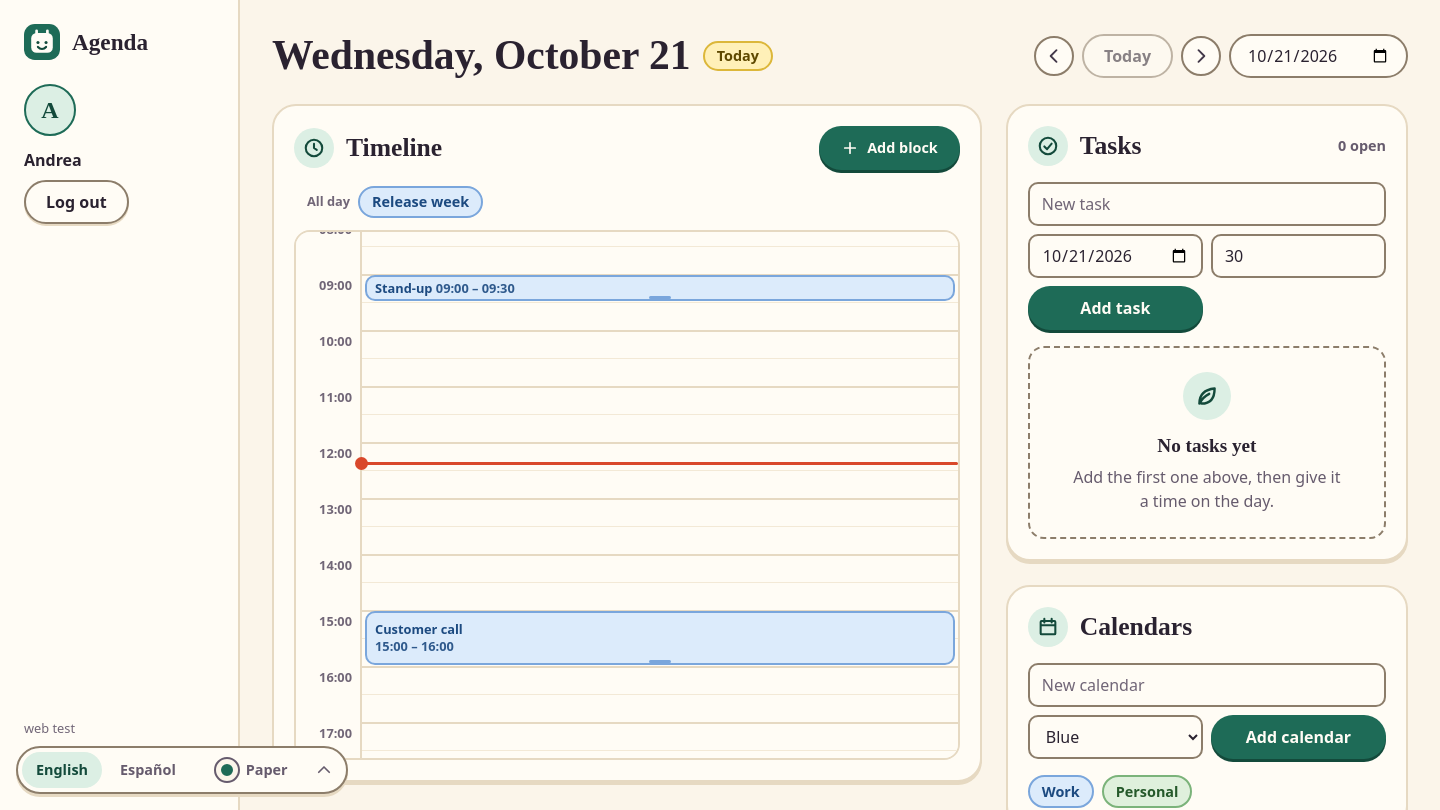
Test: planning a day › adds a block and lets its title be typed straight away
The width and height of the screenshot is (1440, 810).
(page scrolled)
Click the button "Add block".
click(890, 148)  # box x1=819 y1=126 x2=960 y2=170
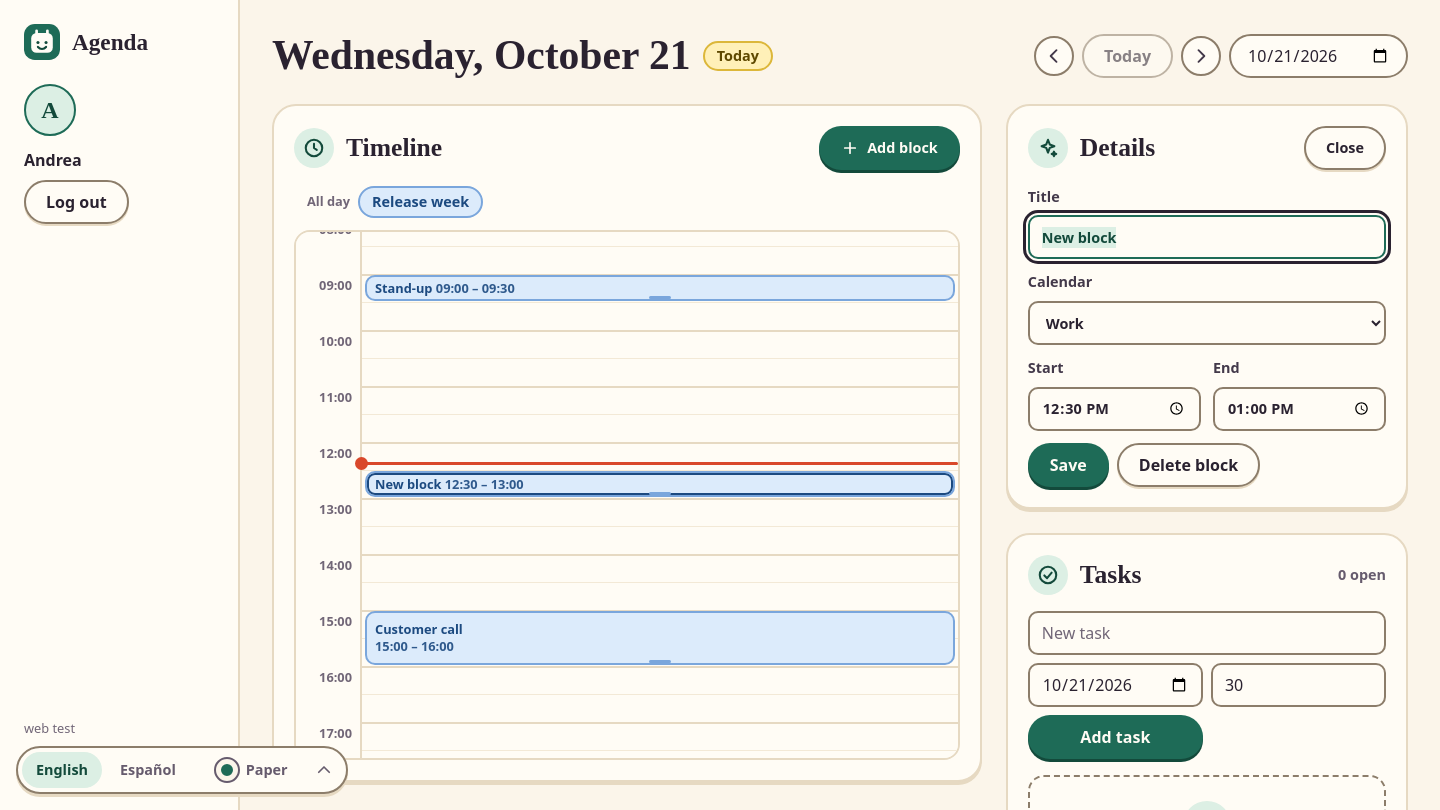
Type keys "Write release notes"
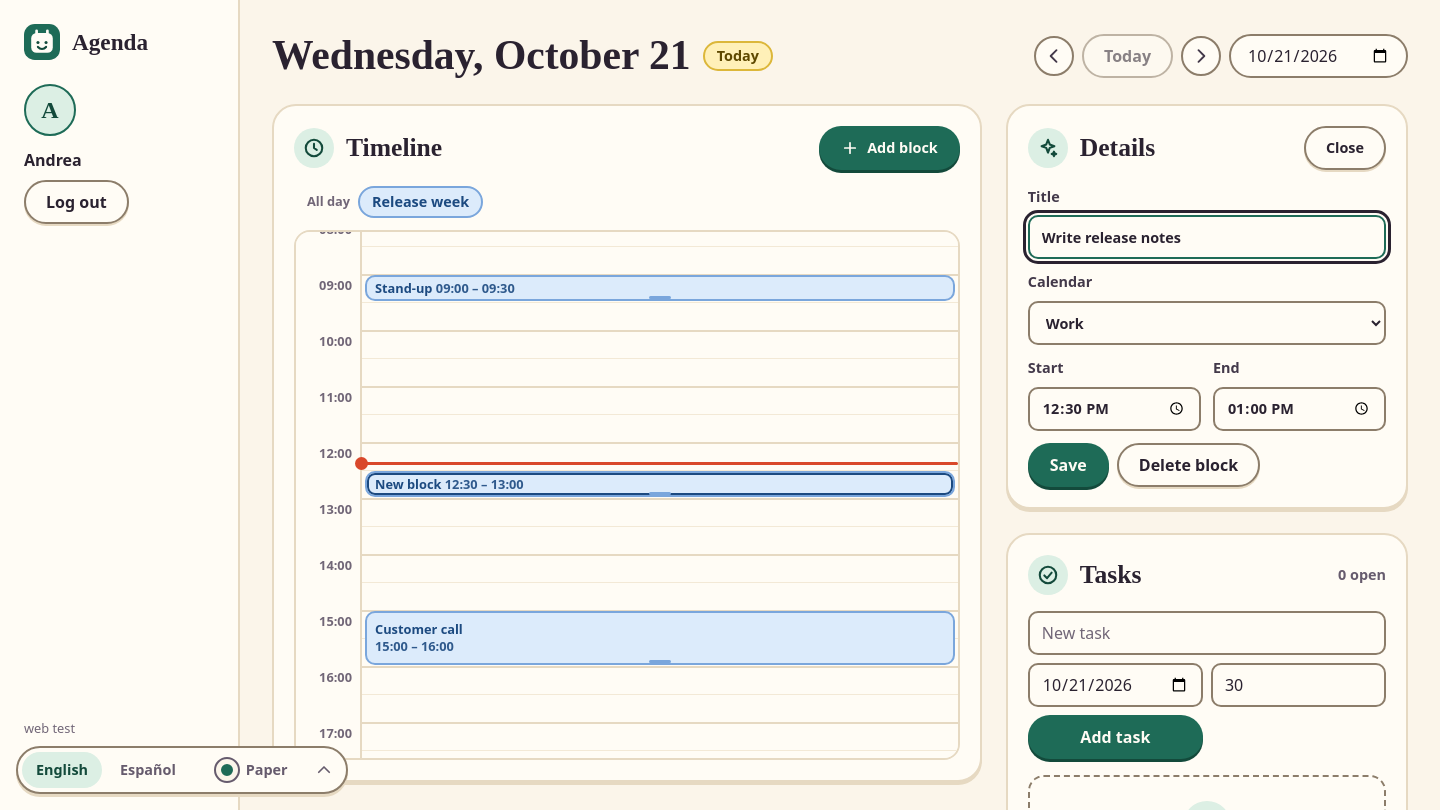
Click the button "Save".
click(1068, 465)  # box x1=1028 y1=443 x2=1109 y2=487
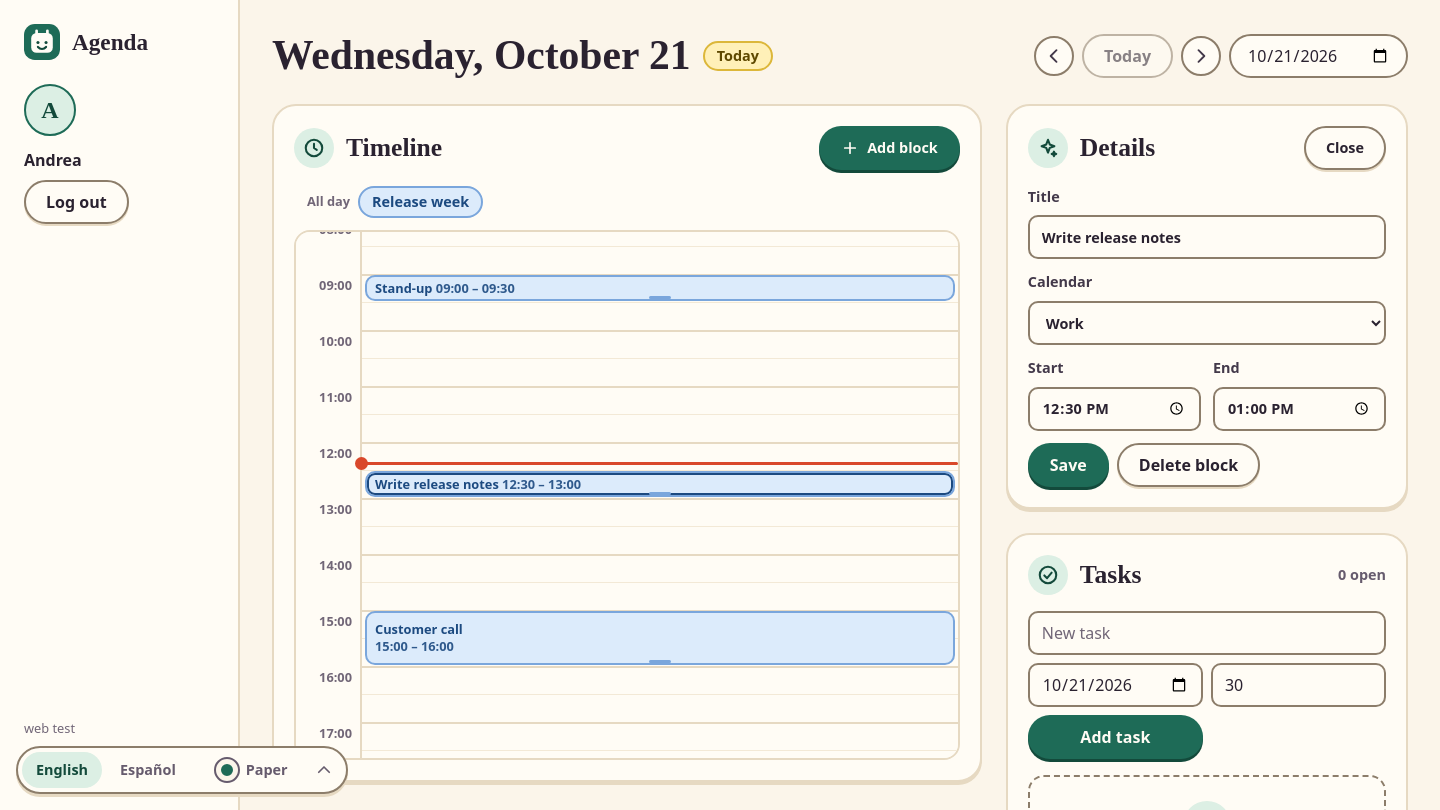
expect the button "Write release notes 12:30 – 13:00" is shown: met, box x1=365 y1=471 x2=955 y2=497
